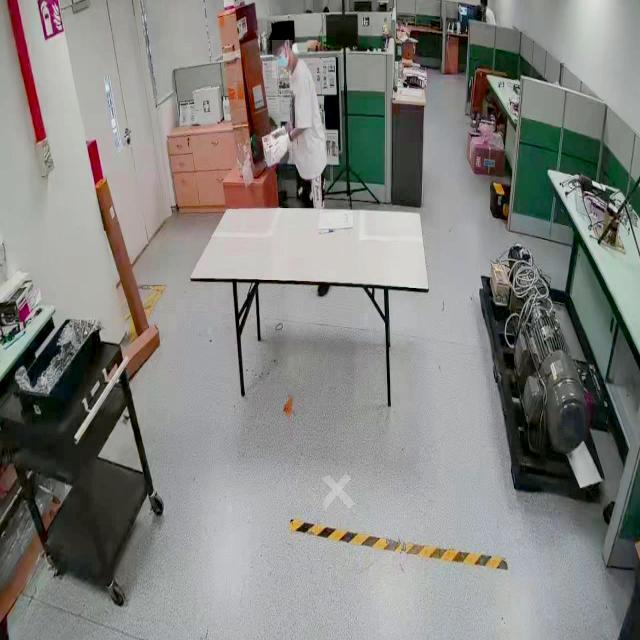face_mask: (272, 40, 293, 79)
hand_glove: (271, 126, 293, 164)
head_nohelmet: (267, 20, 295, 41)
person: (266, 29, 330, 207)
